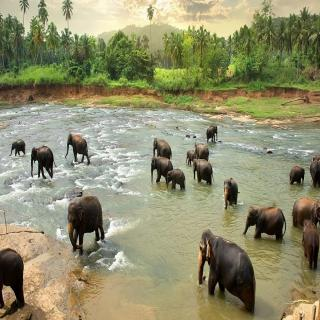Elephant: (191, 224, 261, 320), (66, 193, 110, 257), (243, 202, 291, 252), (28, 144, 58, 186), (300, 216, 320, 273), (63, 129, 91, 169), (291, 193, 320, 228), (192, 156, 217, 192), (220, 174, 242, 212), (149, 154, 170, 188), (166, 166, 188, 192), (152, 135, 172, 159), (288, 162, 306, 188), (8, 135, 28, 158), (193, 140, 214, 161), (310, 153, 320, 191), (205, 122, 220, 144), (185, 148, 196, 166)
